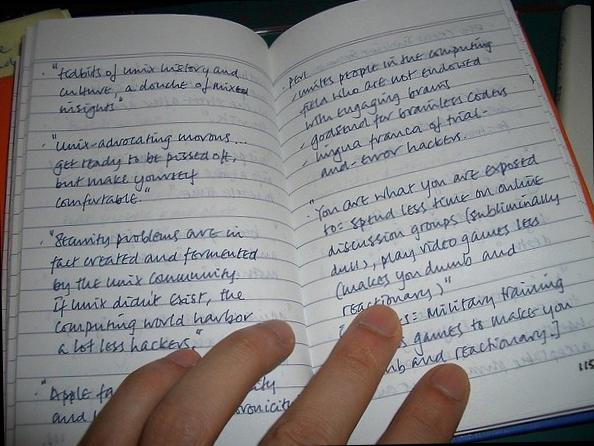text: (307, 150, 543, 228), (325, 190, 561, 260), (320, 171, 544, 240), (296, 86, 512, 156), (290, 34, 494, 104), (327, 214, 541, 280), (296, 54, 484, 122), (300, 104, 486, 171), (302, 78, 452, 134), (321, 130, 462, 180), (52, 306, 256, 340), (46, 244, 261, 276), (50, 286, 246, 319), (50, 266, 237, 299), (50, 147, 238, 178), (50, 222, 244, 252), (50, 56, 241, 84), (54, 326, 203, 360), (58, 76, 252, 102), (49, 128, 249, 153), (51, 166, 197, 194), (54, 184, 150, 212), (37, 374, 114, 406), (58, 94, 124, 122), (233, 398, 293, 418), (48, 408, 98, 426), (252, 376, 278, 394), (287, 69, 308, 89)
